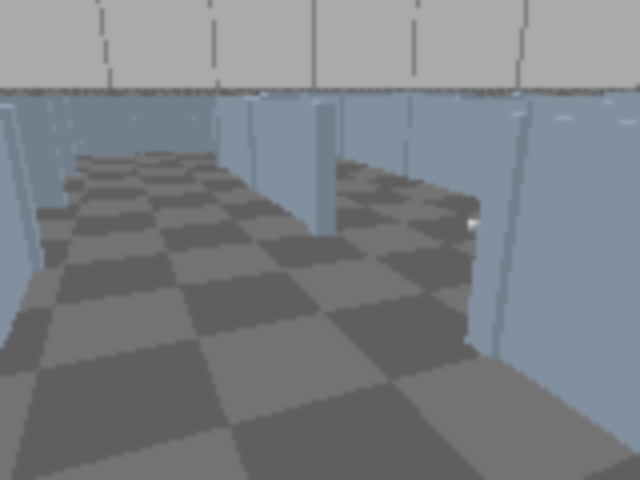puck: (463, 215, 487, 238)
